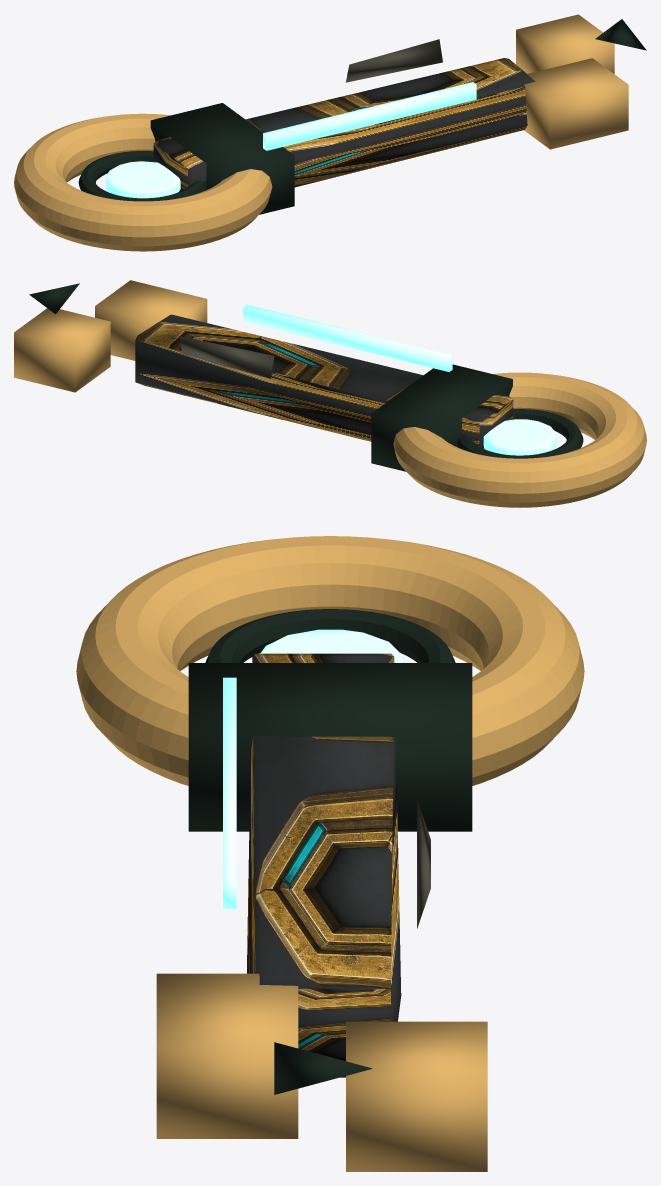
The model's file is hp_pickup_large_yellow_key.glb.
The picture shows the model from 3 angles, top to bottom: view 1: azimuth 30°, elevation 25°; view 2: azimuth 150°, elevation 25°; view 3: azimuth 270°, elevation 25°; orthographic projection. The views are drawn at different scales.
Visible parts, largest first — view 1: pickup_large_yellow_key_black_grip_block, pickup_large_yellow_key_flat_key_shaft_image2_face, pickup_large_yellow_key_bow_inner_cyan_lens; view 2: pickup_large_yellow_key_black_grip_block, pickup_large_yellow_key_flat_key_shaft_image2_face, pickup_large_yellow_key_bow_inner_cyan_lens; view 3: pickup_large_yellow_key_black_grip_block, pickup_large_yellow_key_flat_key_shaft_image2_face, pickup_large_yellow_key_bow_inner_cyan_lens.
Boxes of the visible parts, left/top/right/bottom form: pickup_large_yellow_key_black_grip_block: left=14, top=14, right=646, bottom=251; pickup_large_yellow_key_flat_key_shaft_image2_face: left=153, top=58, right=535, bottom=191; pickup_large_yellow_key_bow_inner_cyan_lens: left=105, top=82, right=476, bottom=198; pickup_large_yellow_key_black_grip_block: left=14, top=280, right=646, bottom=507; pickup_large_yellow_key_flat_key_shaft_image2_face: left=135, top=314, right=513, bottom=448; pickup_large_yellow_key_bow_inner_cyan_lens: left=243, top=304, right=556, bottom=455; pickup_large_yellow_key_black_grip_block: left=76, top=536, right=584, bottom=1171; pickup_large_yellow_key_flat_key_shaft_image2_face: left=247, top=653, right=401, bottom=1077; pickup_large_yellow_key_bow_inner_cyan_lens: left=223, top=629, right=403, bottom=908.
Bounding box in the file's own units: 1.14 × 0.1312 × 0.424.
Materials: 3 (3 with a texture image).
